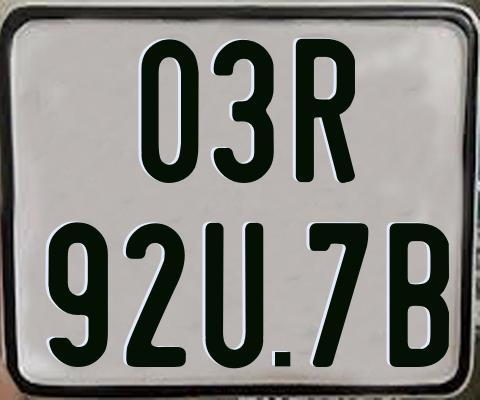0: (140, 36, 202, 180)
2: (126, 220, 186, 365)
3: (213, 39, 279, 188)
7: (308, 220, 372, 370)
9: (48, 220, 114, 369)
B: (388, 222, 453, 370)
R: (293, 37, 357, 185)
U: (205, 222, 265, 374)
